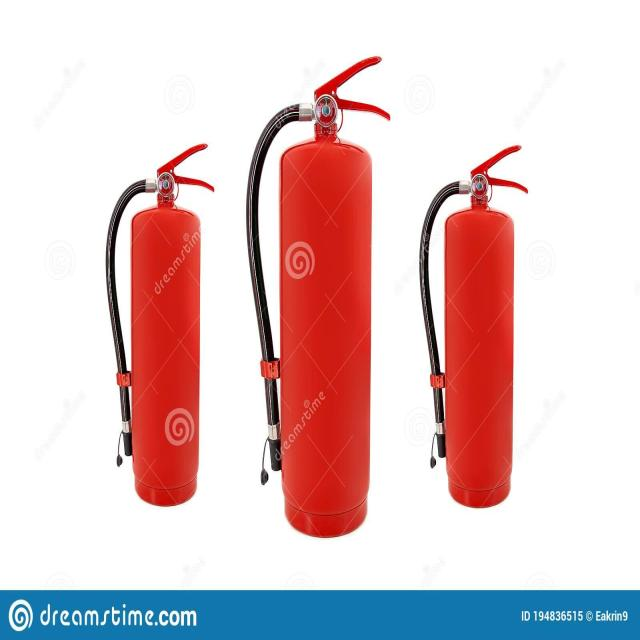fire_extinguisher: (242, 52, 394, 539), (103, 139, 220, 509), (415, 140, 530, 512)
